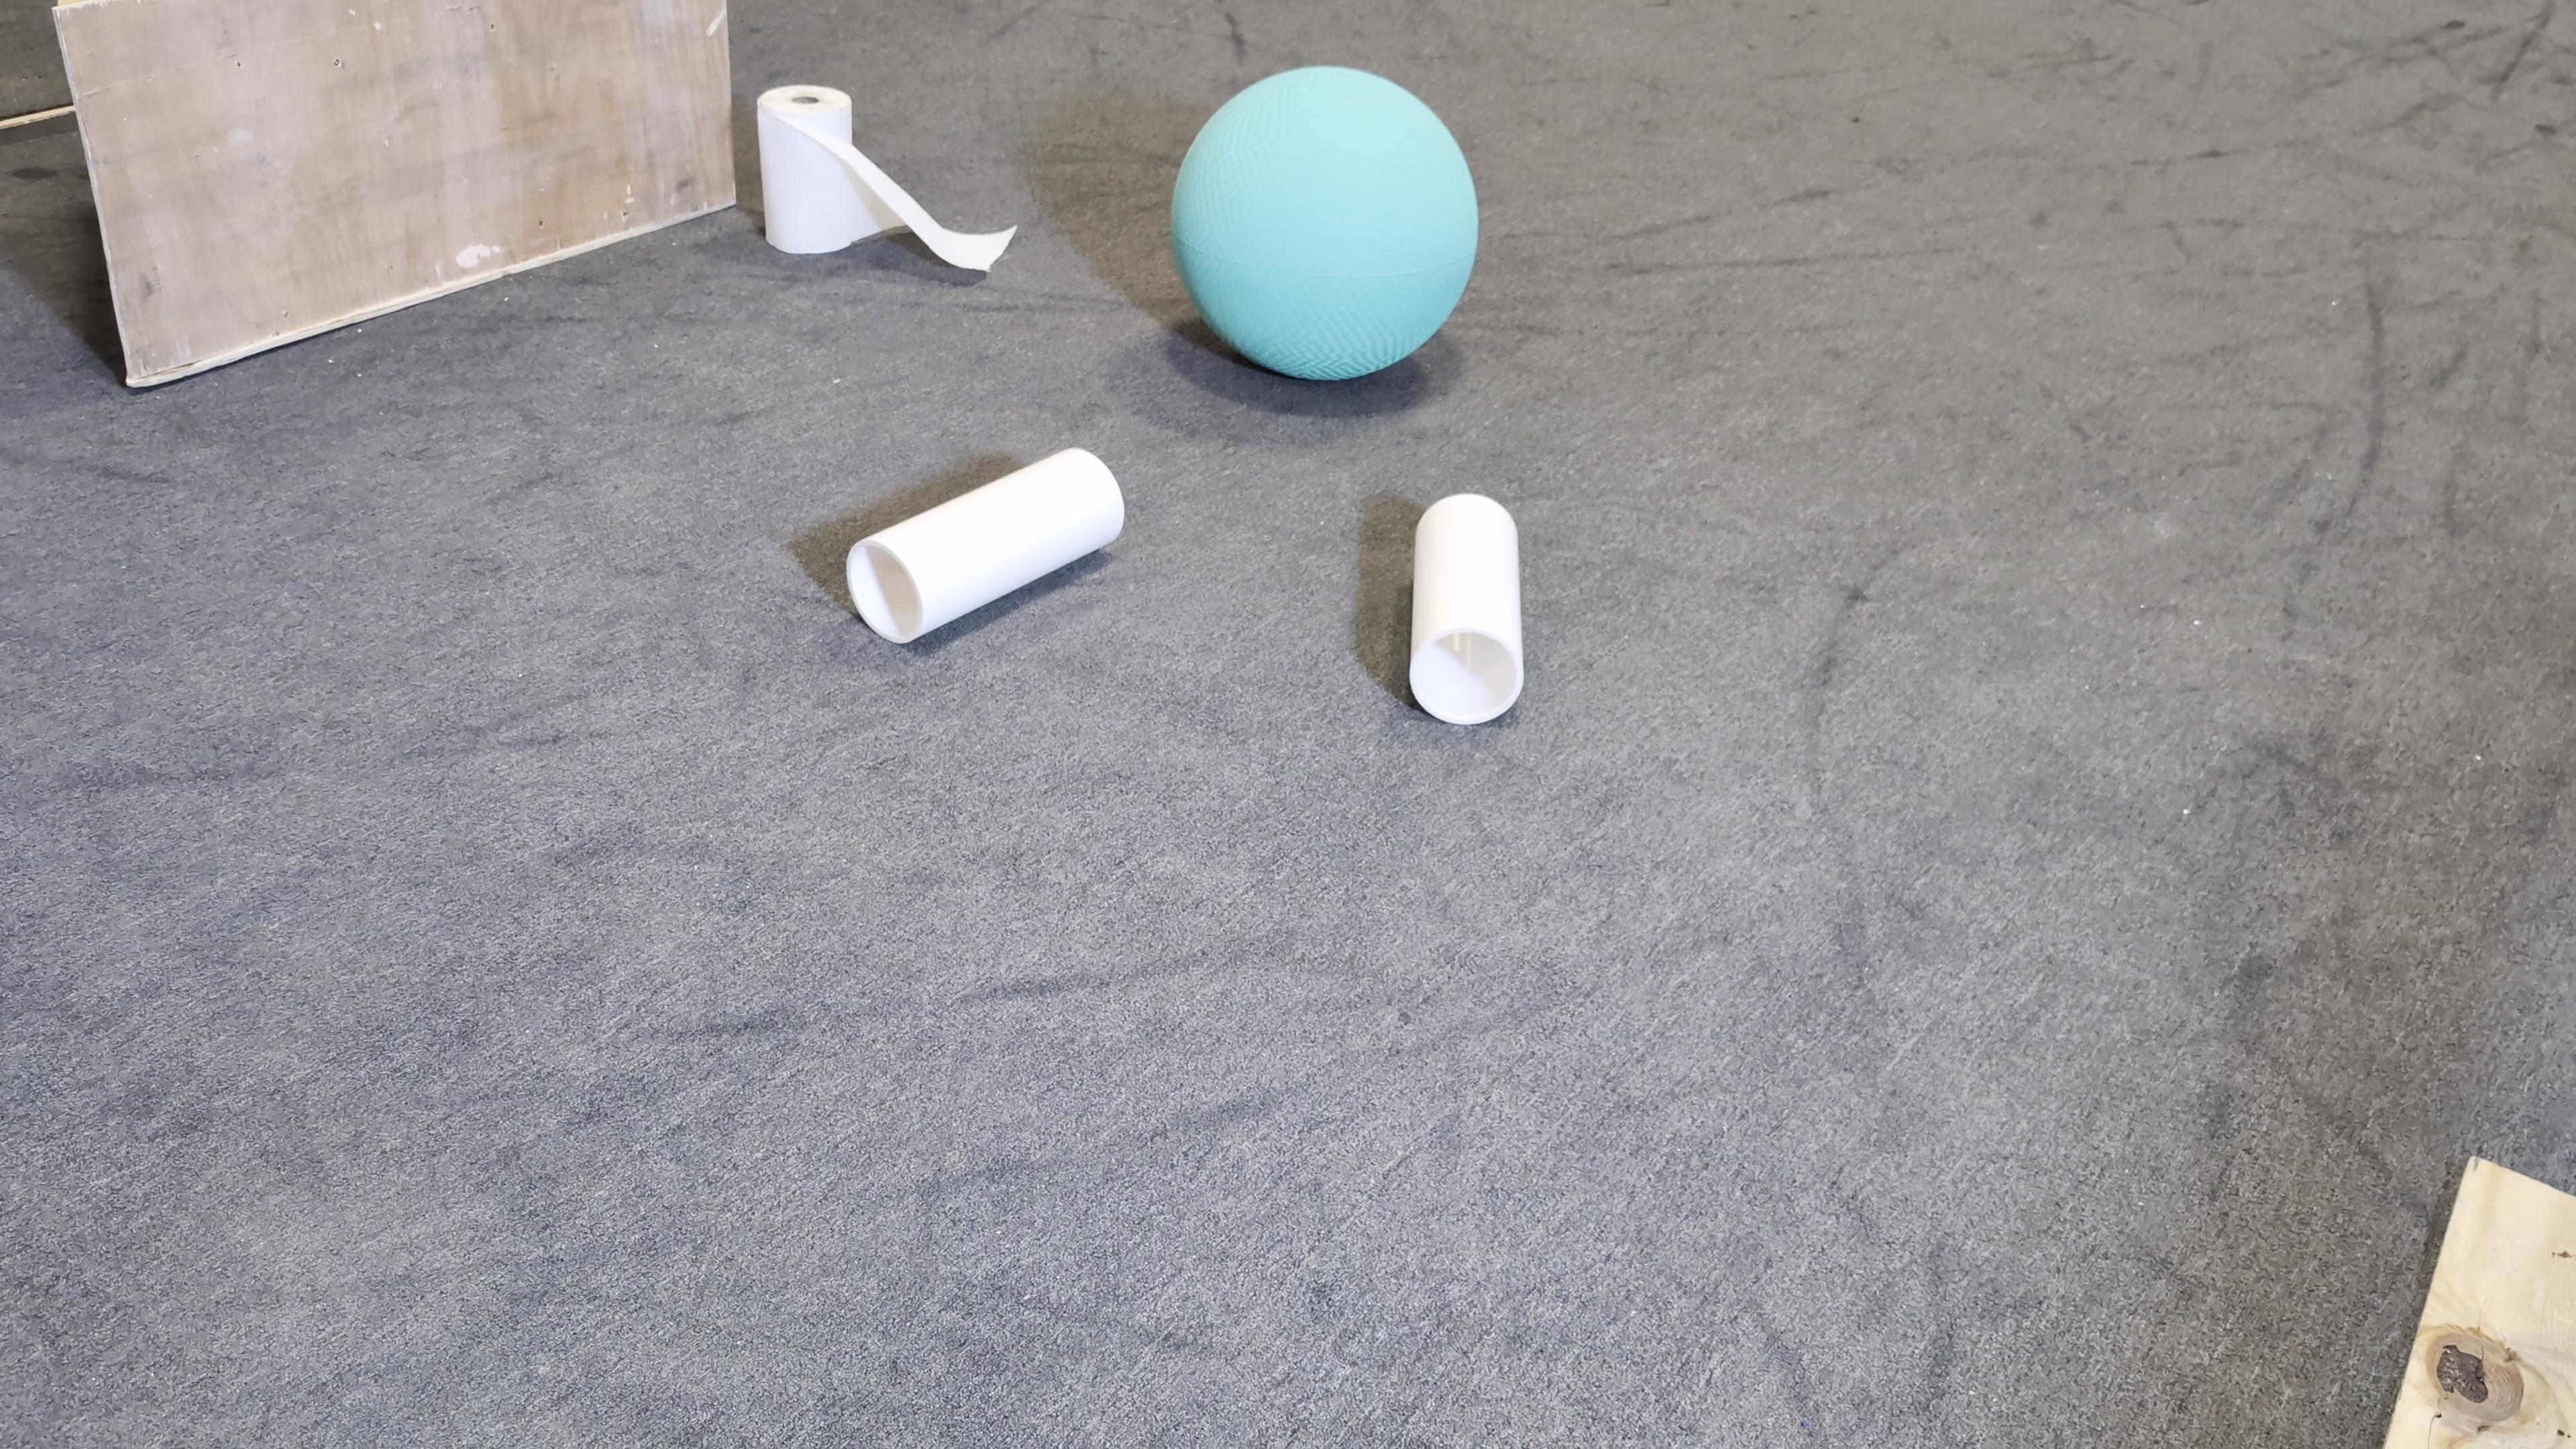algae: (1171, 64, 1477, 379)
coral: (846, 442, 1125, 644), (1403, 492, 1529, 725)
